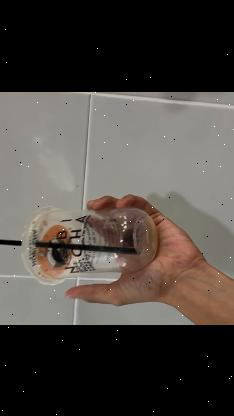Others: (22, 205, 158, 283)
